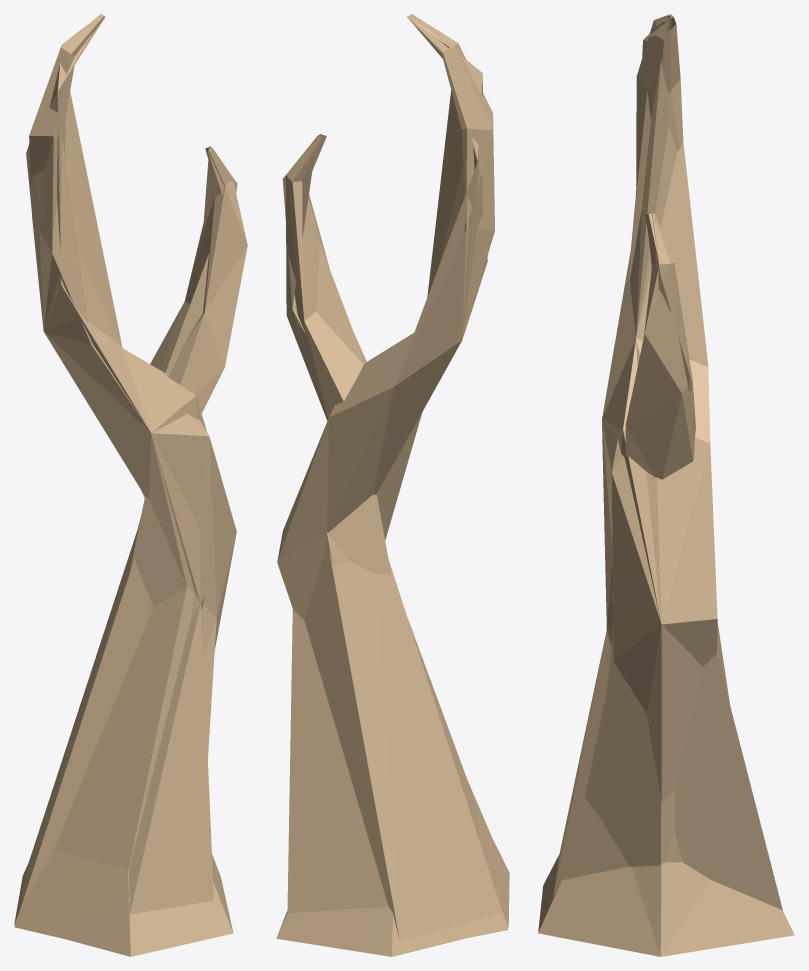
File: Tree_02.fbx
3 views of the same model, side by side, from view 1: azimuth 30°, elevation 25°; view 2: azimuth 150°, elevation 25°; view 3: azimuth 270°, elevation 25° (orthographic).
Visible parts, largest first — view 1: Tree_02_0, Tree_02_1; view 2: Tree_02_1, Tree_02_0; view 3: Tree_02_0, Tree_02_1.
Boxes of the visible parts, x1,y1,x2,y2 form: Tree_02_0: (14,14,247,956); Tree_02_1: (14,14,237,938); Tree_02_1: (282,16,507,941); Tree_02_0: (276,14,509,956); Tree_02_0: (538,14,794,956); Tree_02_1: (553,15,782,956).
Size of the model in its own units: 400 by 1507 by 394.
